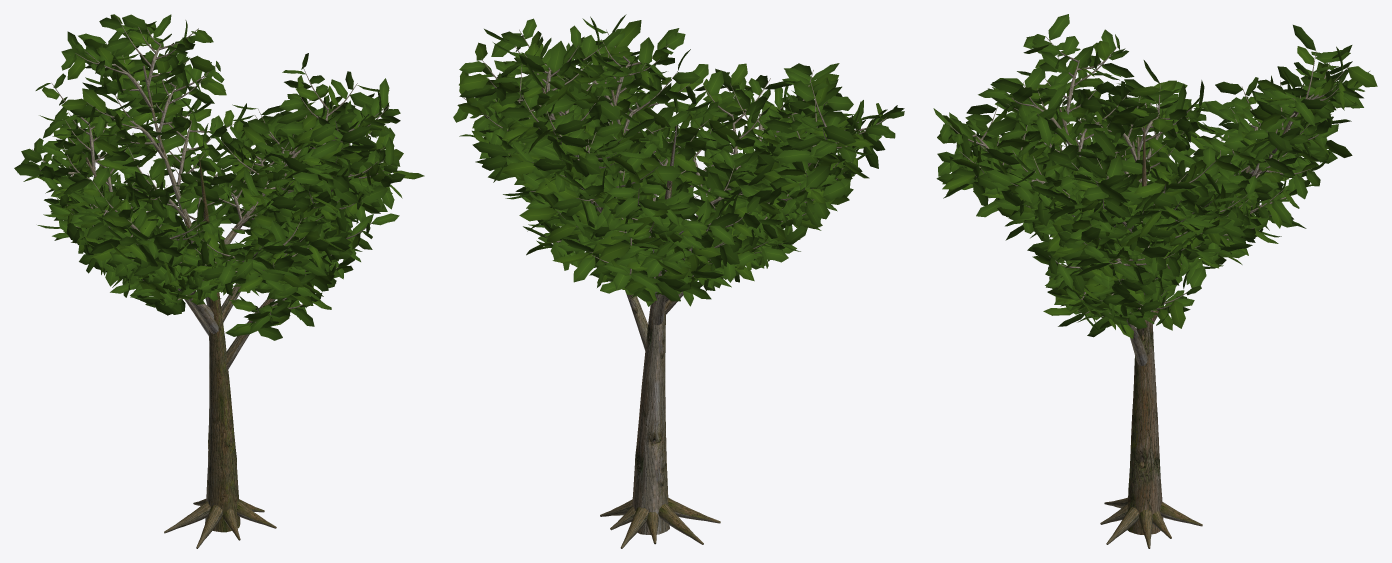
File: oak_sapling_lod1.gltf
3 renders of one model, left to right at view 1: azimuth 30°, elevation 25°; view 2: azimuth 150°, elevation 25°; view 3: azimuth 270°, elevation 25°, orthographic. The views are drawn at different scales.
Parts seen in each view (by area): view 1: oak_sapling_lod1; view 2: oak_sapling_lod1; view 3: oak_sapling_lod1.
Boxes of the visible parts, bbox=[...] form: oak_sapling_lod1: bbox=[14, 14, 424, 548]; oak_sapling_lod1: bbox=[453, 14, 904, 548]; oak_sapling_lod1: bbox=[933, 14, 1377, 548].
Size of the model in its own units: 3.21 by 3.82 by 3.31.
Materials: 3 (3 with a texture image).
